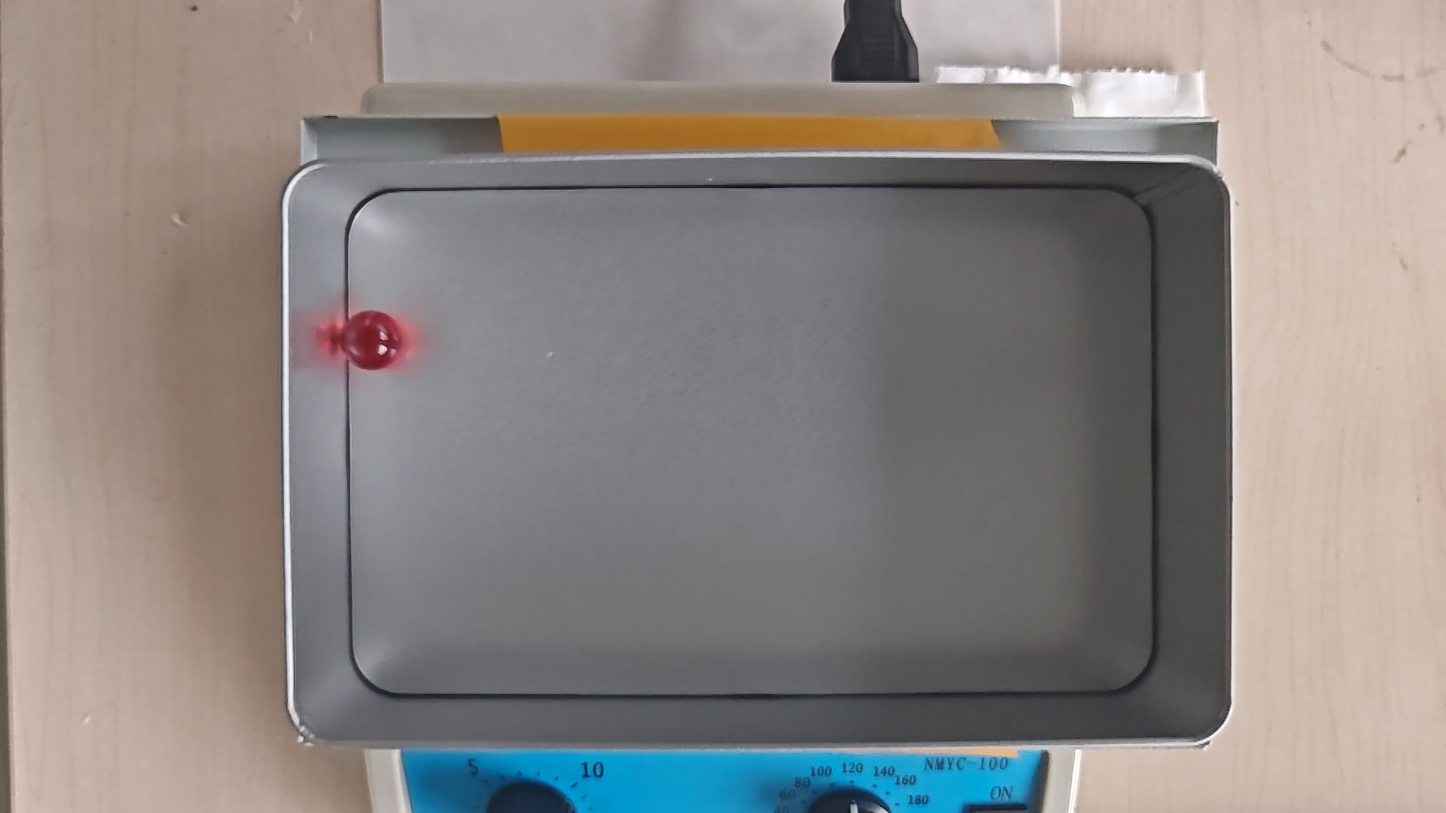ball: (340, 311, 402, 372)
container: (346, 187, 1154, 694)
